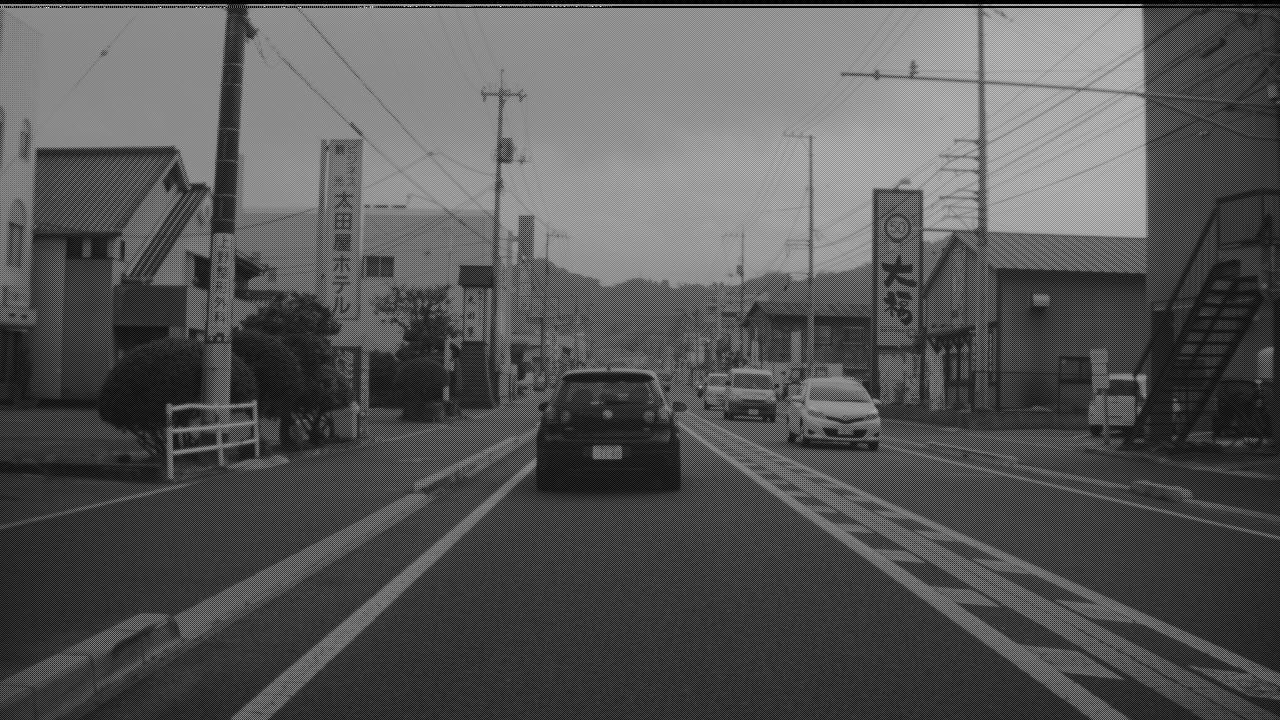pole: (200, 9, 247, 462), (976, 6, 991, 411), (489, 86, 506, 382), (808, 133, 816, 378)
